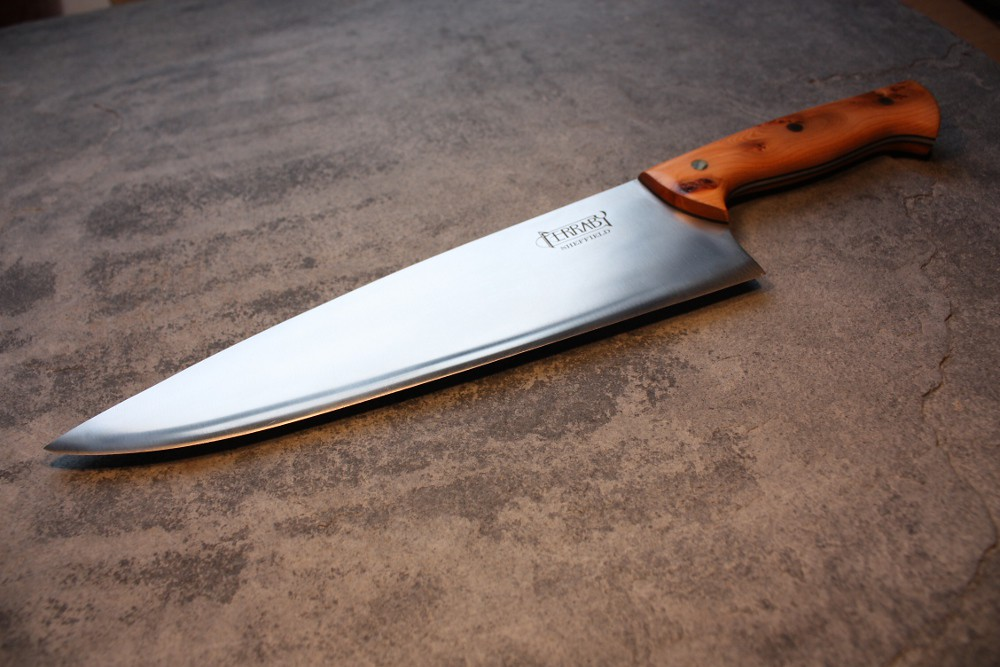knife: (41, 74, 953, 451)
